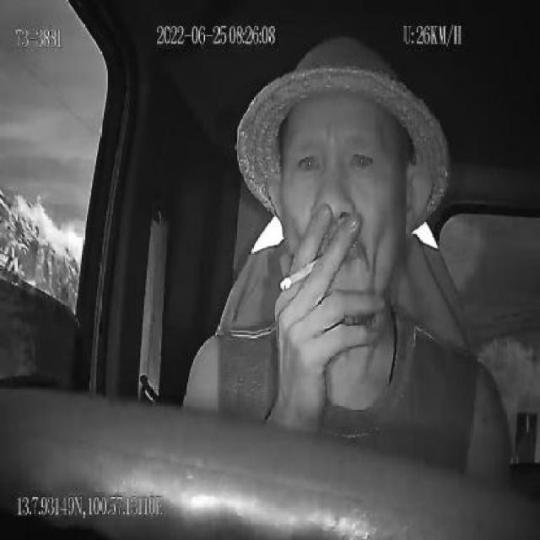smoking: (279, 257, 324, 291)
